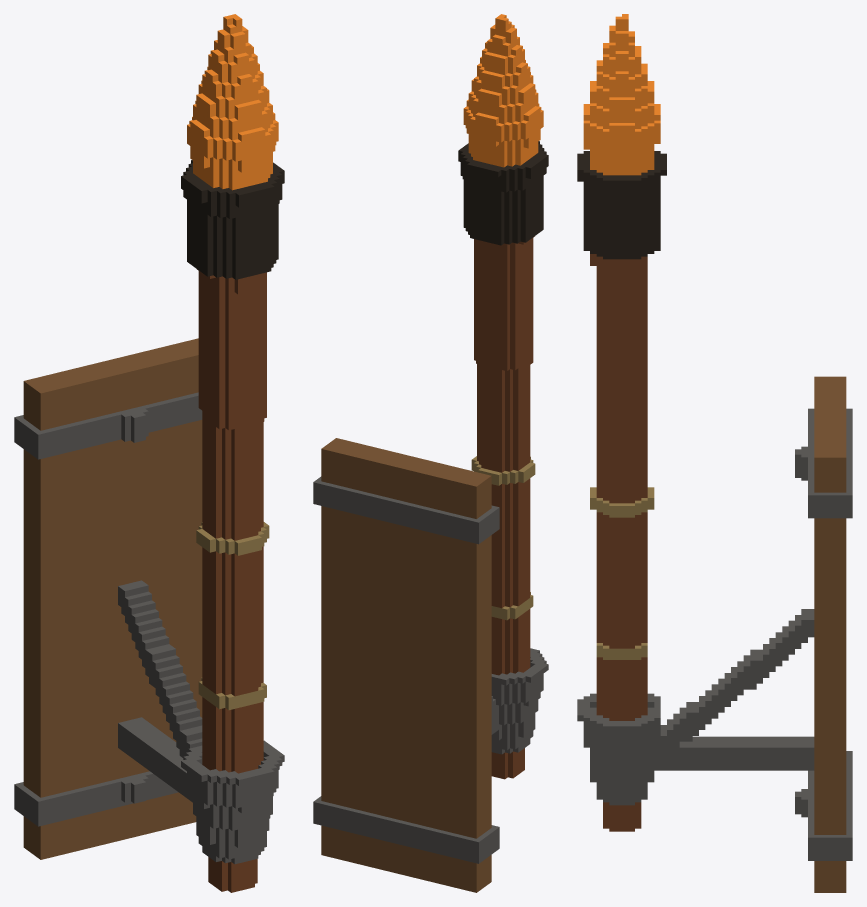
The model's file is everburning_wall_sconce.glb.
The picture shows the model from 3 angles, left to right: view 1: azimuth 30°, elevation 25°; view 2: azimuth 150°, elevation 25°; view 3: azimuth 270°, elevation 25°; orthographic projection. The views are drawn at different scales.
Visible parts, largest first — view 1: everburning_wall_sconce:compound; view 2: everburning_wall_sconce:compound; view 3: everburning_wall_sconce:compound.
Boxes of the visible parts, bbox=[...] form: everburning_wall_sconce:compound: bbox=[14, 14, 284, 892]; everburning_wall_sconce:compound: bbox=[313, 14, 548, 892]; everburning_wall_sconce:compound: bbox=[577, 14, 852, 892].
Size of the model in its own units: 0.128 by 0.576 by 0.172.
